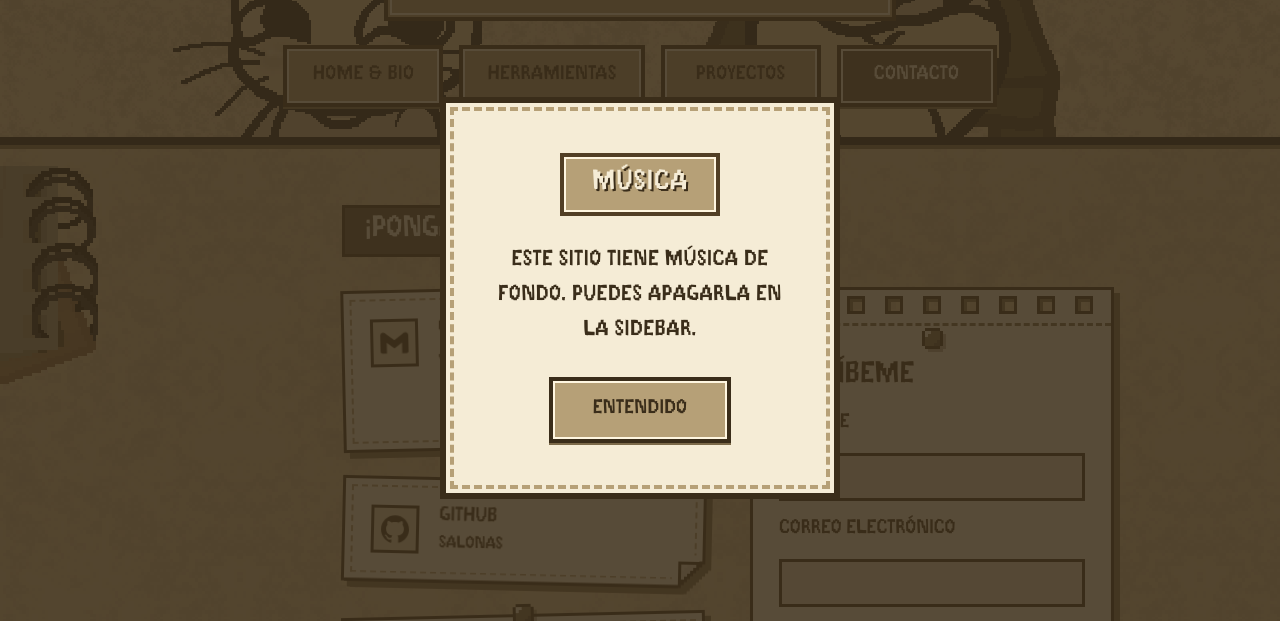
Test case: sends the three fields and shows the sent modal
Click the button "Entendido" at [640, 410], box [549,377,731,443]
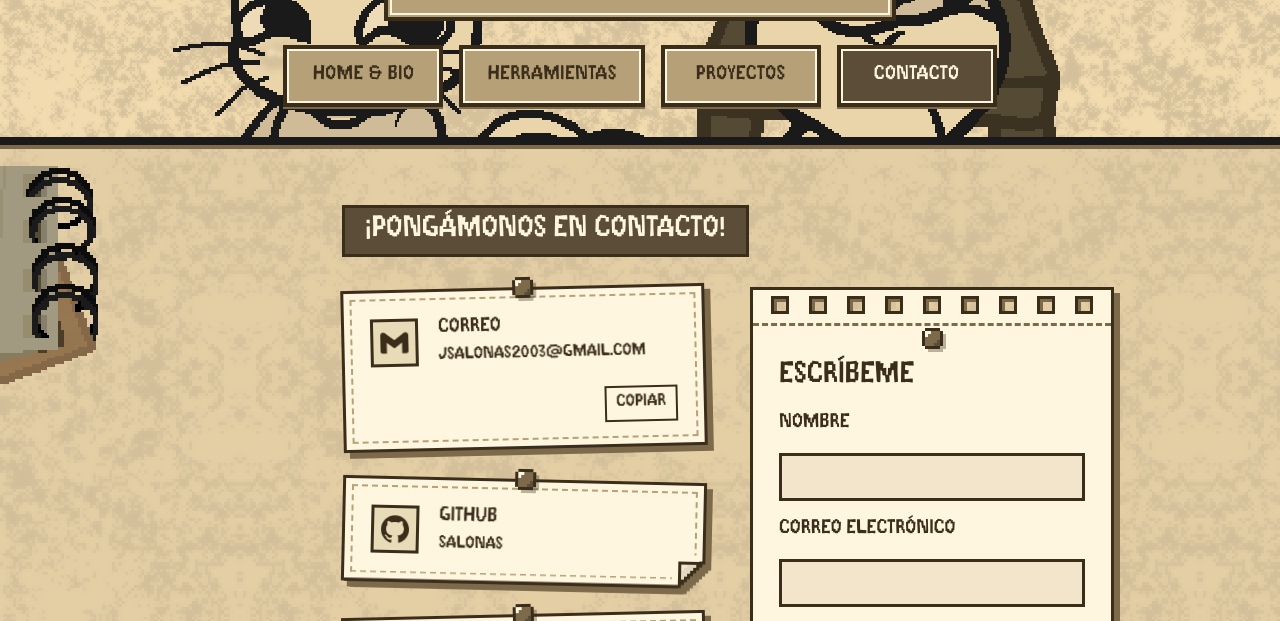
Type "Ana" into the field labelled "Nombre" at [932, 477], box [779,453,1085,501]
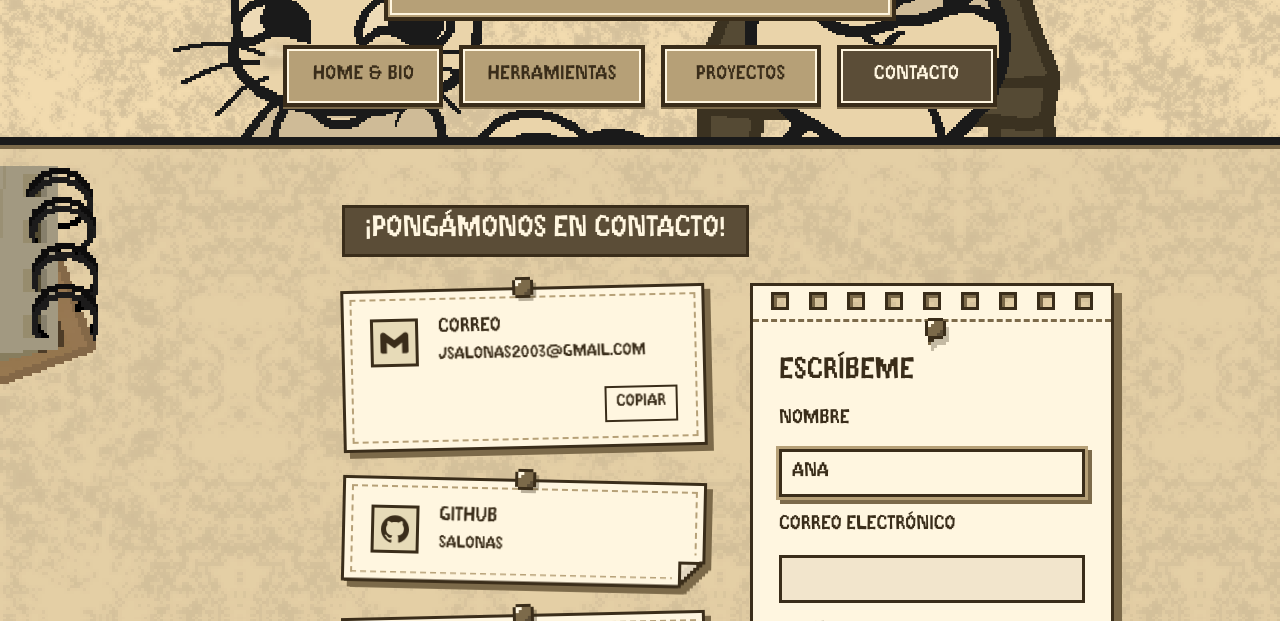
Type "ana@example.com" into the field labelled "Correo electrónico" at [932, 579], box [779,555,1085,603]
(page scrolled)
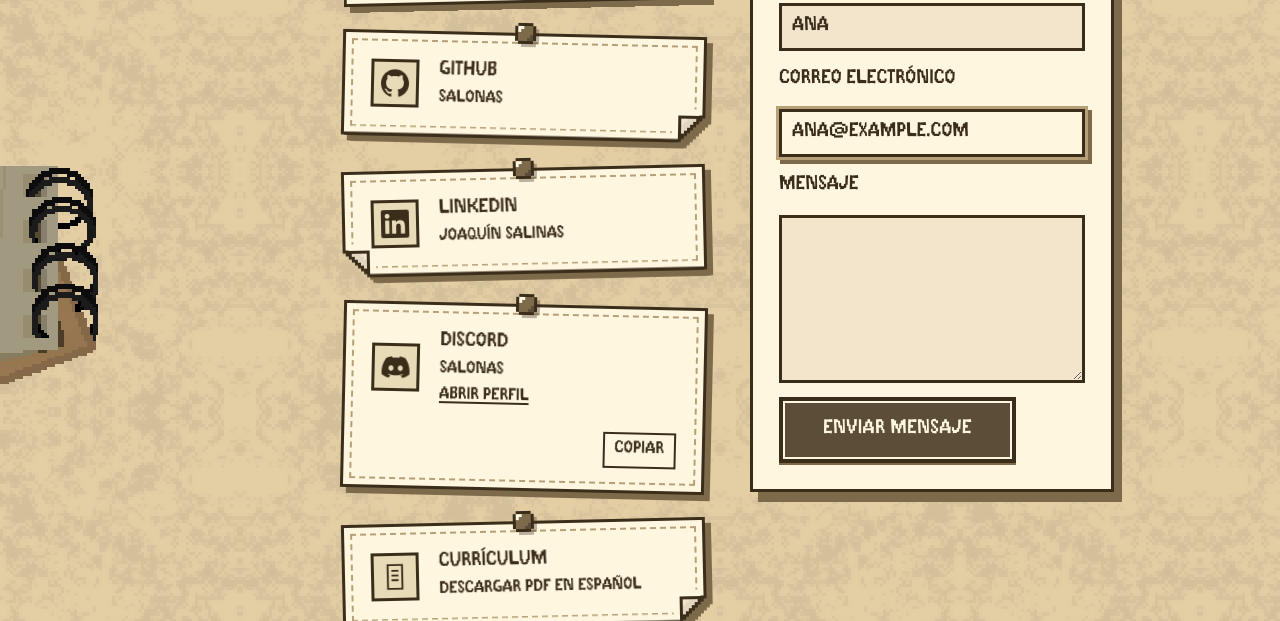
Type "Hola Salonas" into the text box labelled "Mensaje" at [932, 299], box [779,215,1085,383]
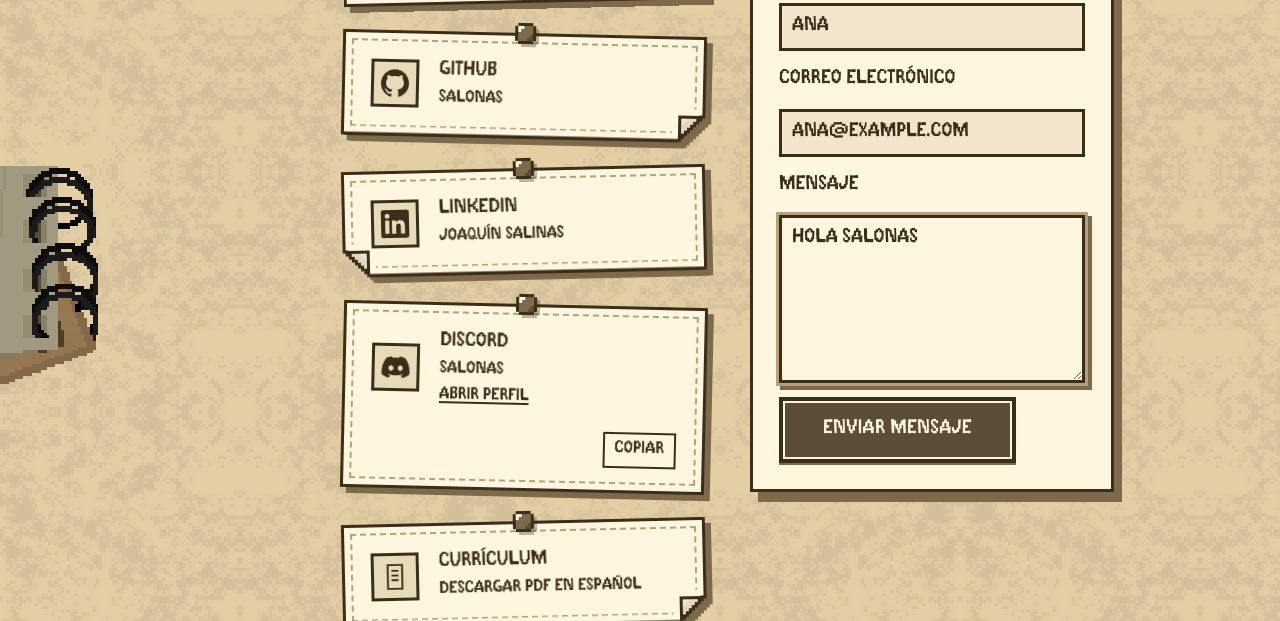
Click the button "Enviar mensaje" at [897, 430], box [779,397,1016,463]
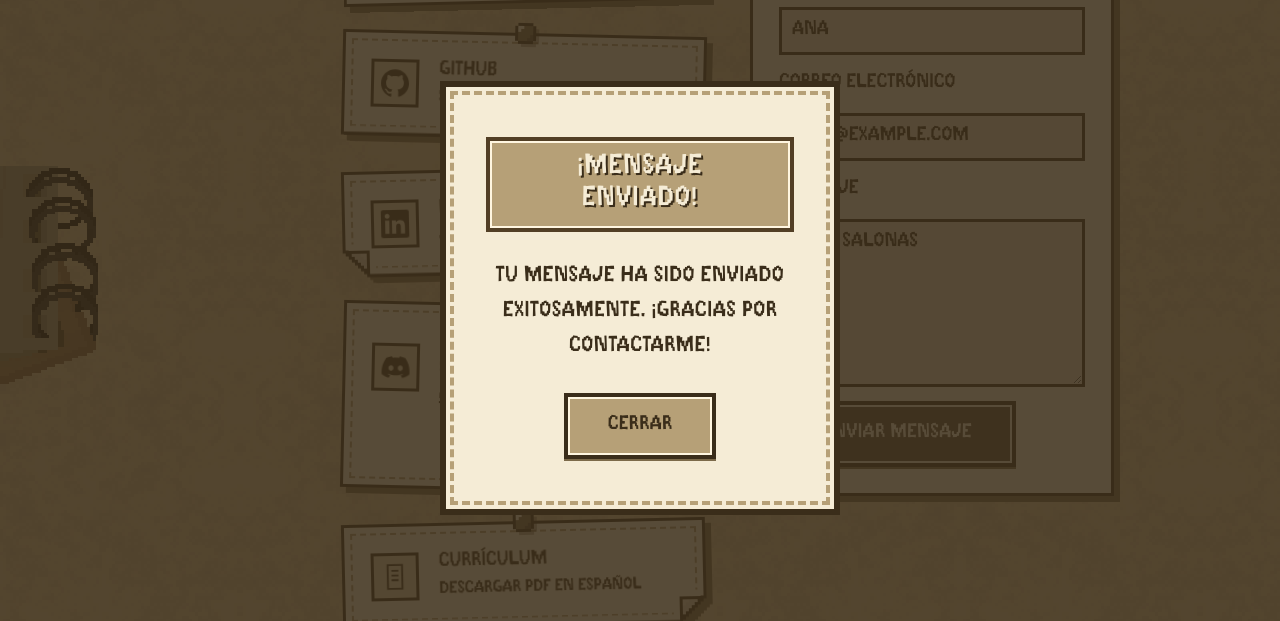
Check: the dialog shows "¡Mensaje enviado!", box [577,154,703,214]
